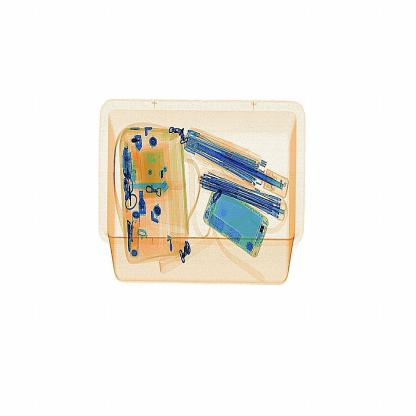pliers: (126, 173, 194, 193)
